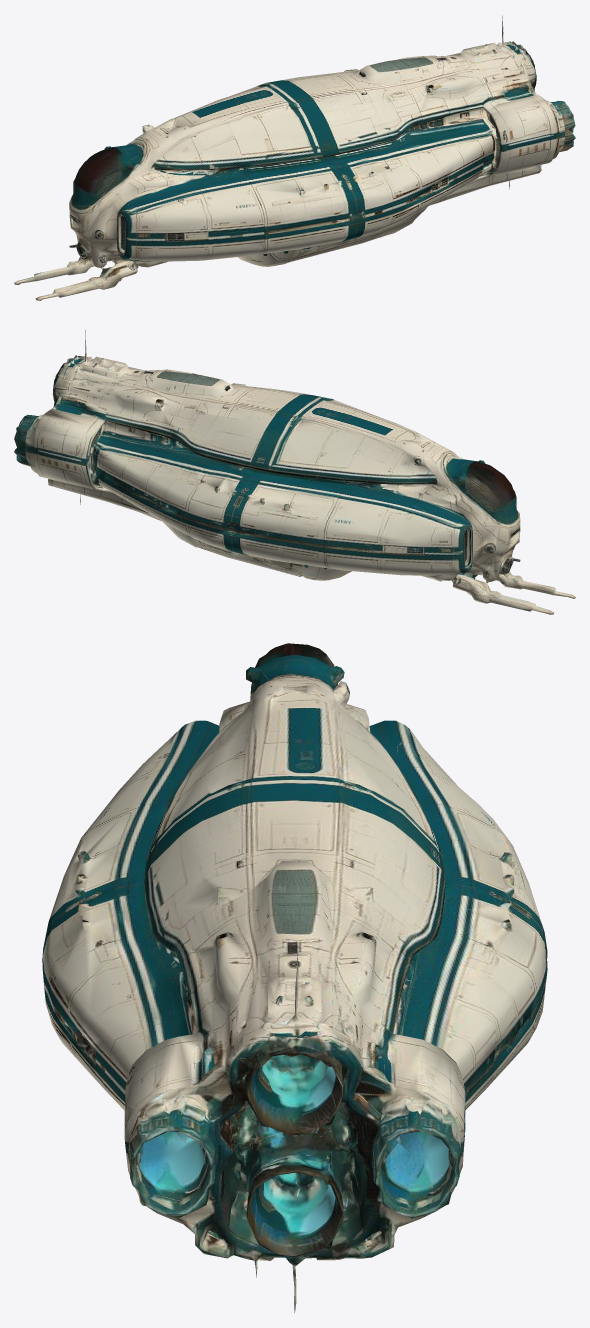
File: warp_small_science.glb
The picture shows the model from 3 angles, top to bottom: view 1: azimuth 30°, elevation 25°; view 2: azimuth 150°, elevation 25°; view 3: azimuth 270°, elevation 25°; orthographic projection. The views are drawn at different scales.
Parts seen in each view (by area): view 1: Mesh_0; view 2: Mesh_0; view 3: Mesh_0.
Part boxes in pixels (box(x1,y1,x2,y2)): Mesh_0: box(14, 15, 575, 300); Mesh_0: box(14, 330, 575, 614); Mesh_0: box(42, 643, 547, 1312).
Bounding box in the file's own units: 1.91 × 0.6727 × 0.8192.
1 material, 1 textured.
